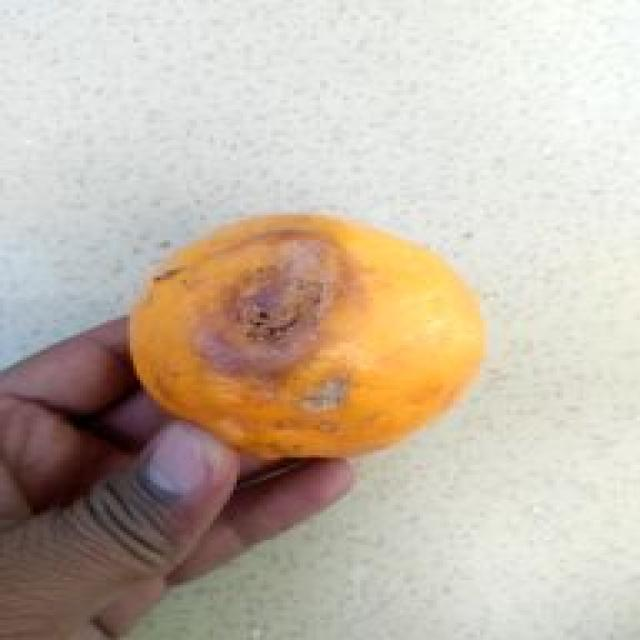Bad_Orange: (130, 215, 485, 458)
